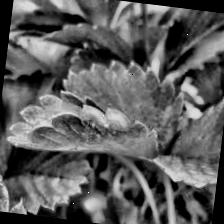Powdery Mildew Leaf: (2, 83, 168, 165)
